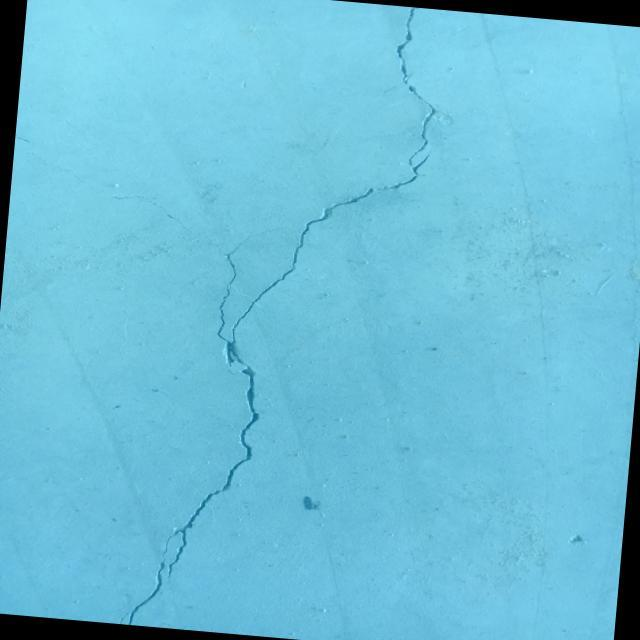crack: (118, 0, 445, 640), (106, 192, 191, 230), (12, 134, 55, 168), (52, 162, 85, 182)
